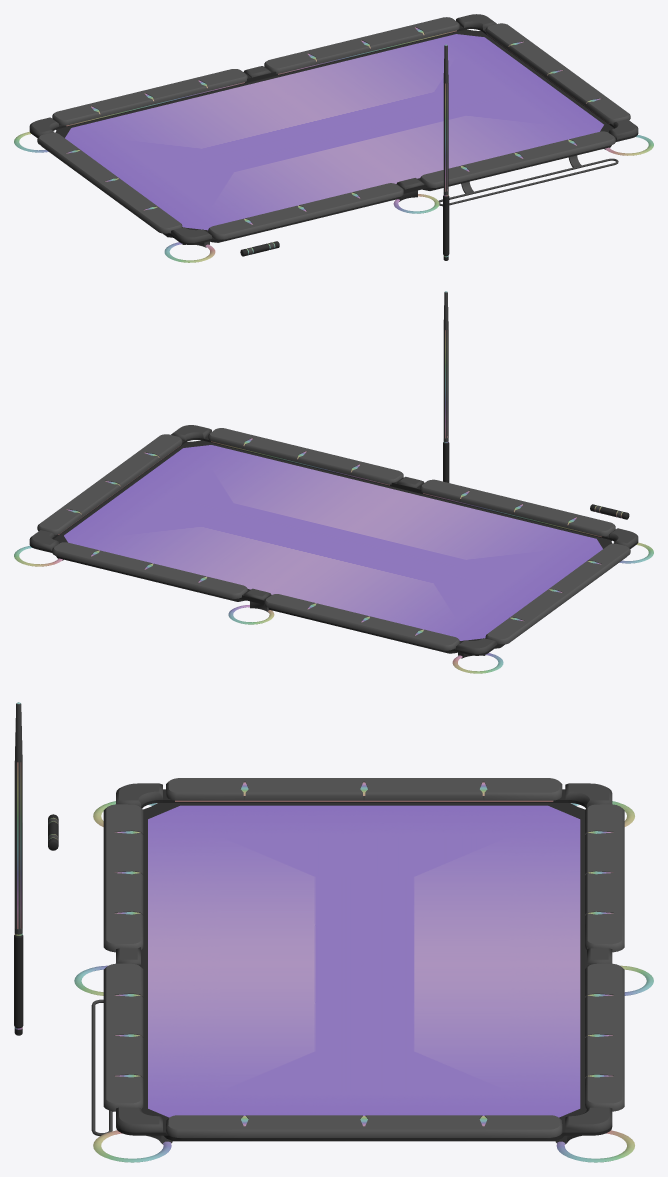
The model's file is ScifiTable.fbx.
3 renders of one model, top to bottom at view 1: azimuth 30°, elevation 25°; view 2: azimuth 150°, elevation 25°; view 3: azimuth 270°, elevation 25°, orthographic. The views are drawn at different scales.
Visible parts, largest first — view 1: scifi-table, scifi-4ball_filters, scifi-cue; view 2: scifi-table, scifi-4ball_filters, scifi-cue; view 3: scifi-table, scifi-4ball_filters, scifi-cue.
Part boxes in pixels (<box>): scifi-table: <box>14,17,653,262</box>; scifi-4ball_filters: <box>29,14,638,244</box>; scifi-cue: <box>443,44,449,260</box>; scifi-table: <box>14,428,653,673</box>; scifi-4ball_filters: <box>29,425,638,655</box>; scifi-cue: <box>443,291,449,482</box>; scifi-table: <box>74,778,653,1162</box>; scifi-4ball_filters: <box>116,783,612,1135</box>; scifi-cue: <box>14,702,23,1035</box>.
Size of what is drawn, in the model's own units: 2.49 by 1.06 by 1.85.
